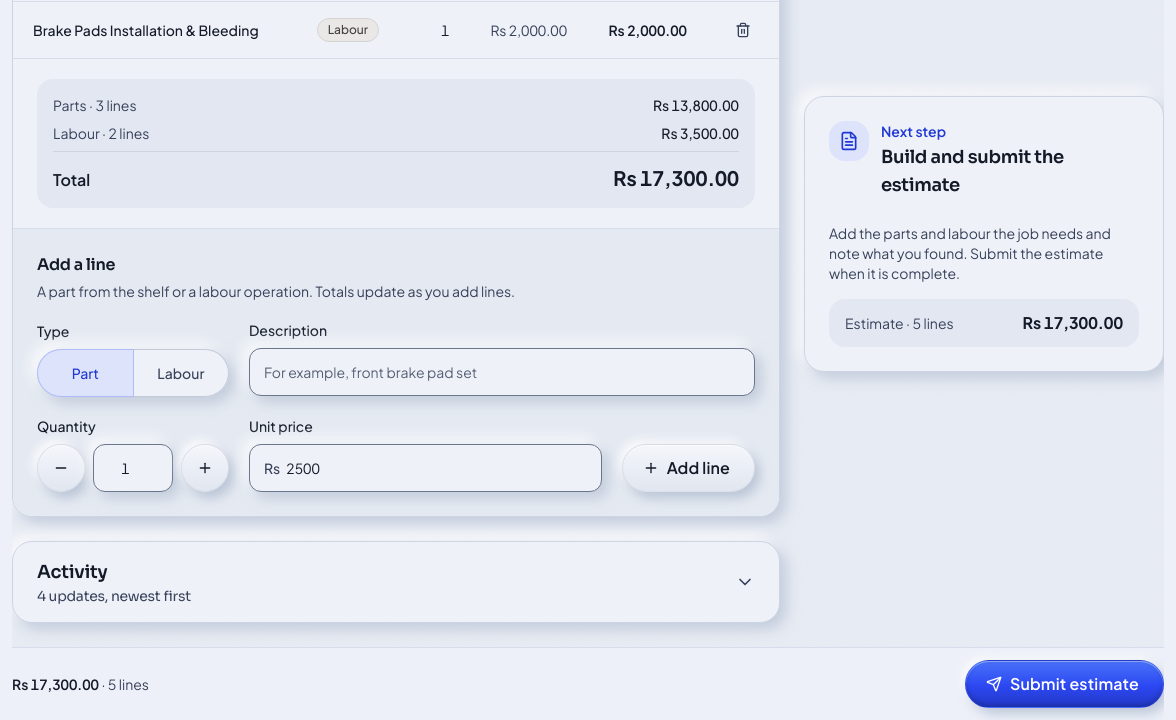
Test case: T-02 job detail › does not add a line without a description, and says why
(page scrolled)
Click the button "Add line" at (688, 468), box x1=622 y1=444 x2=755 y2=492
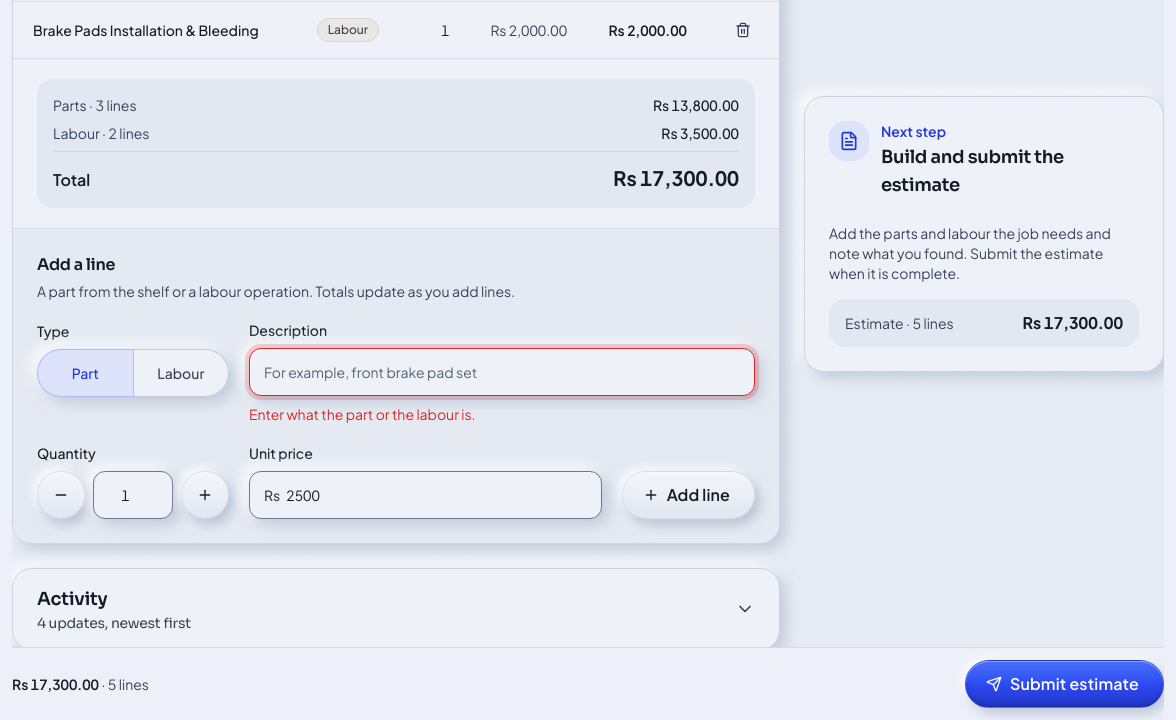
Check: the text "Enter what the part or the labour is." is shown, box x1=249 y1=405 x2=476 y2=423
